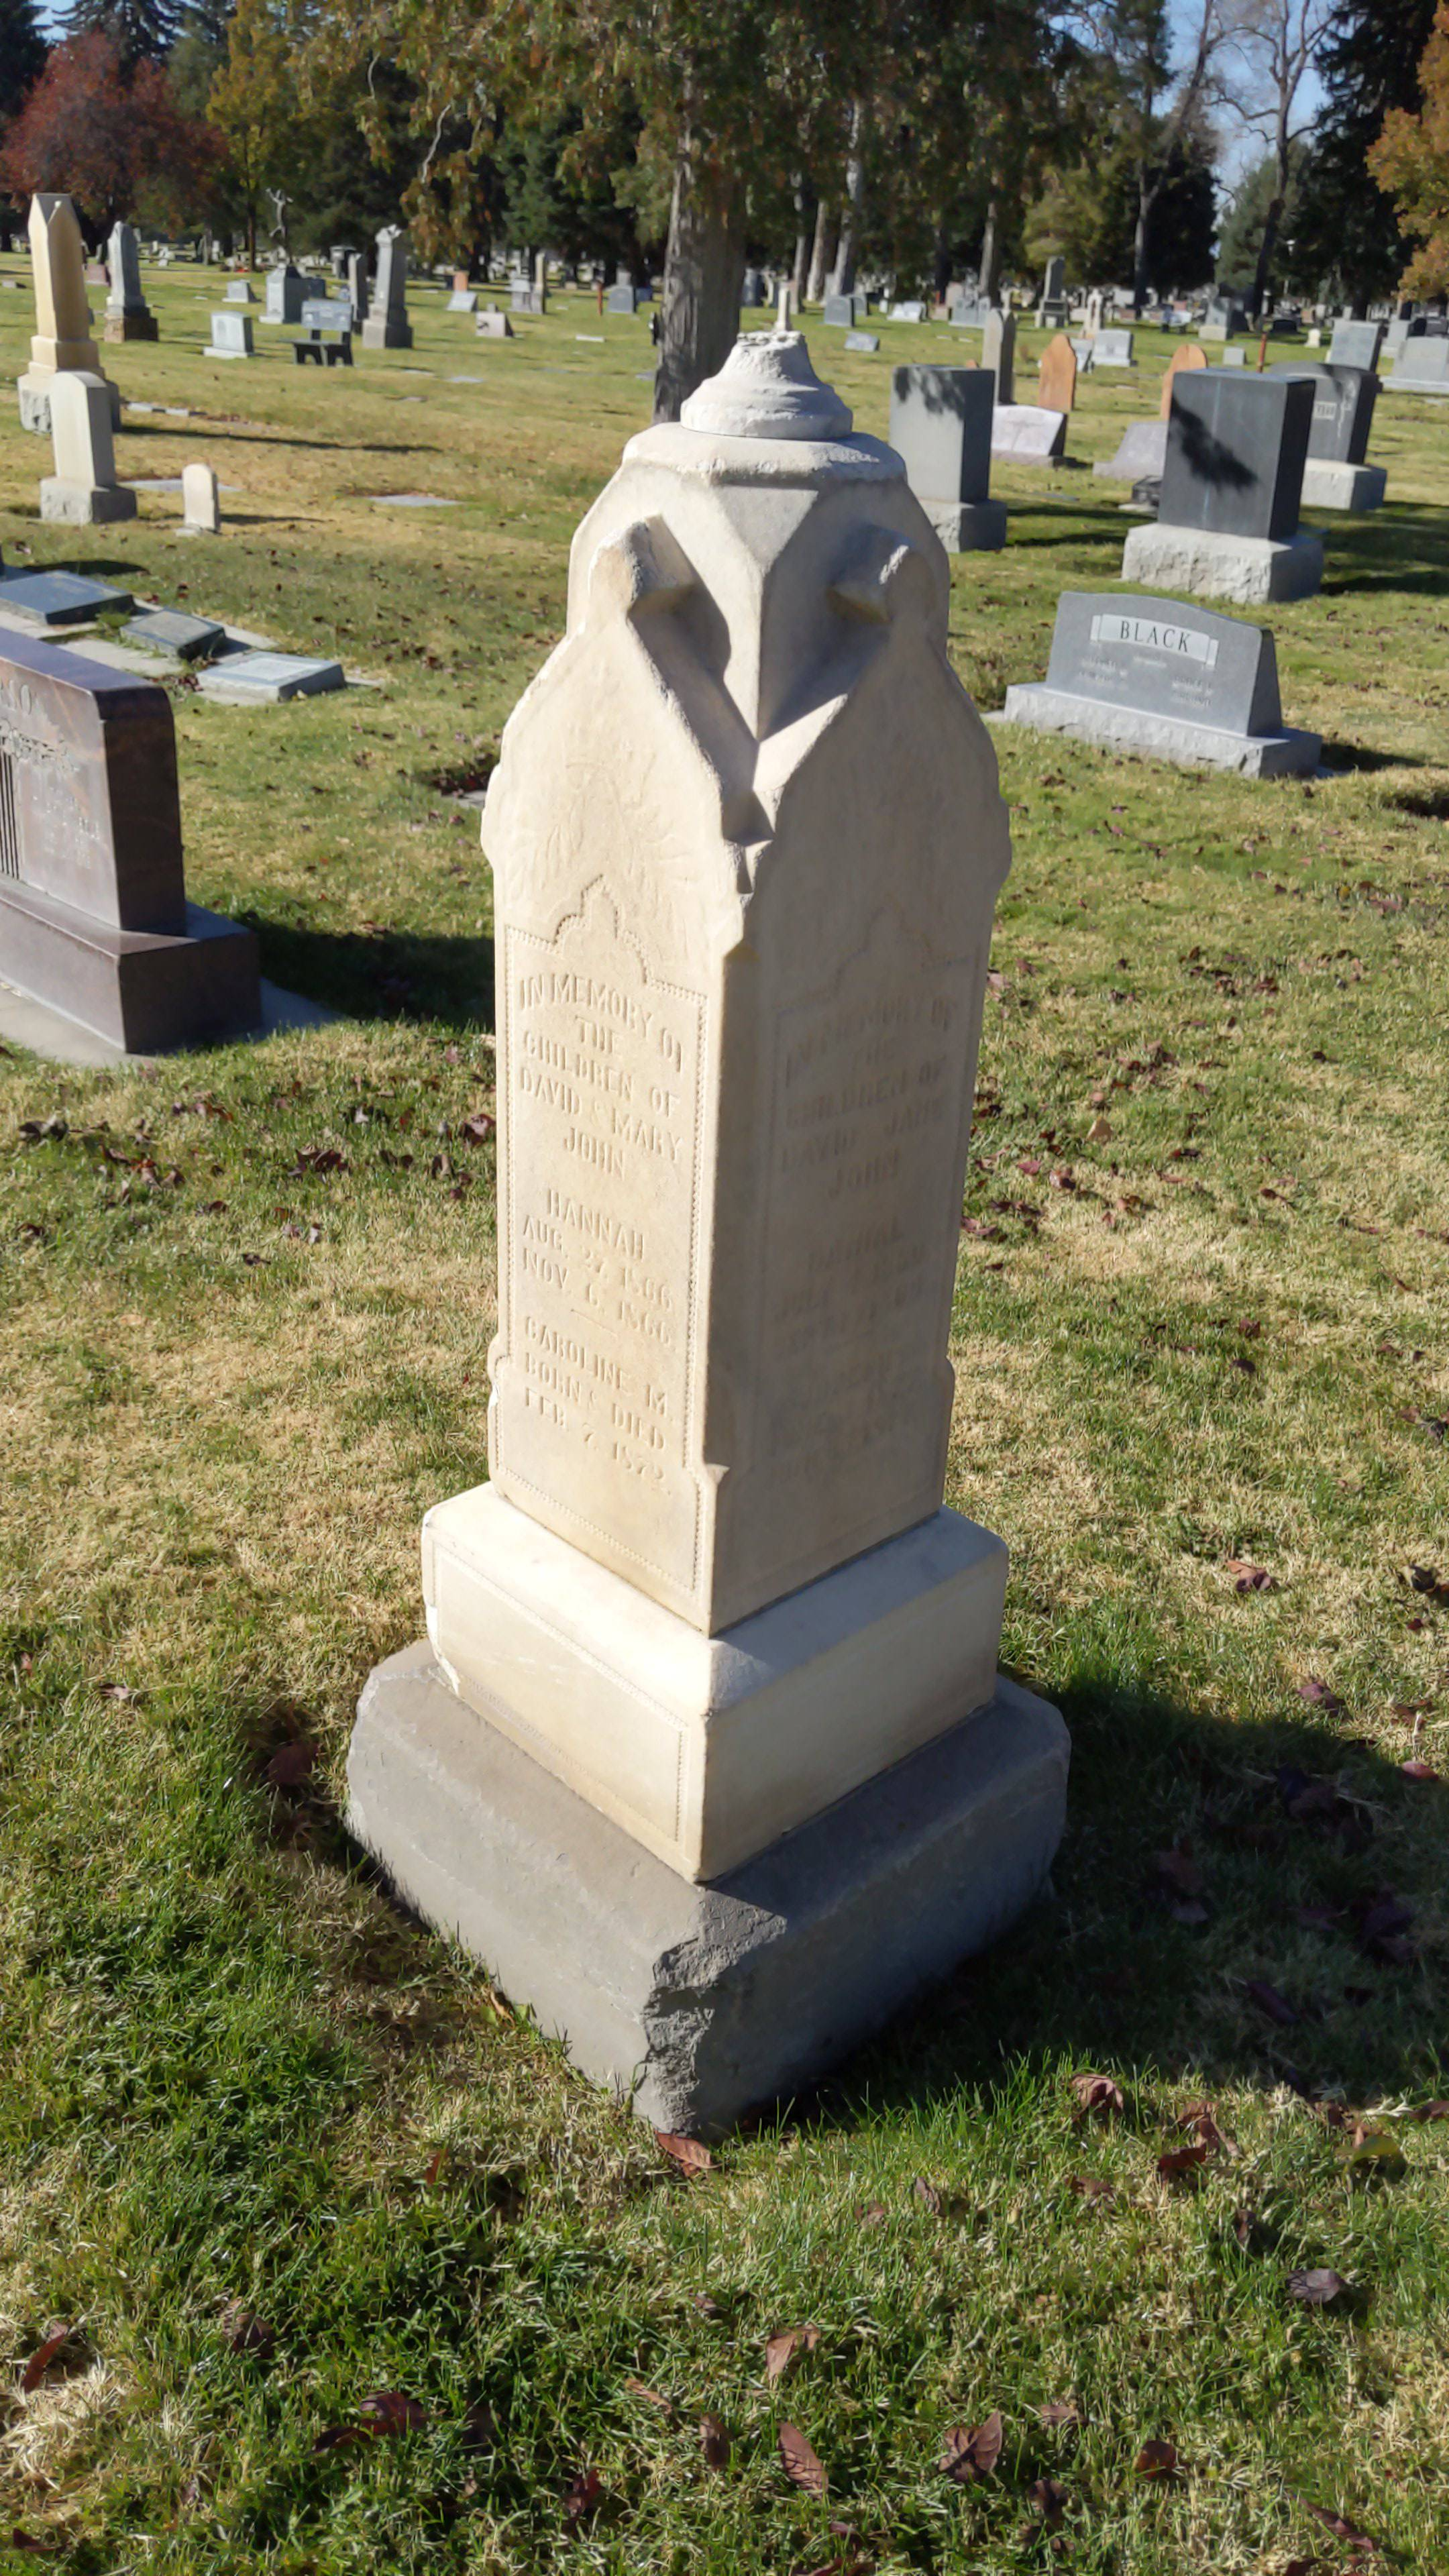obelisk: (426, 318, 1008, 1868)
